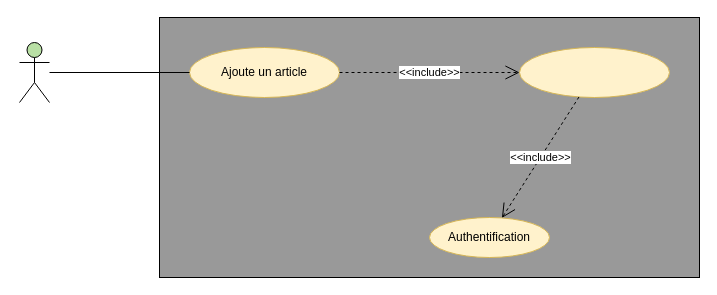
This 717x295 diagram has some shape labels left out. Each missing label, with the centre of its shape:
Accède à l'interface d'administration: point 594,72
Admin: point 34,72
